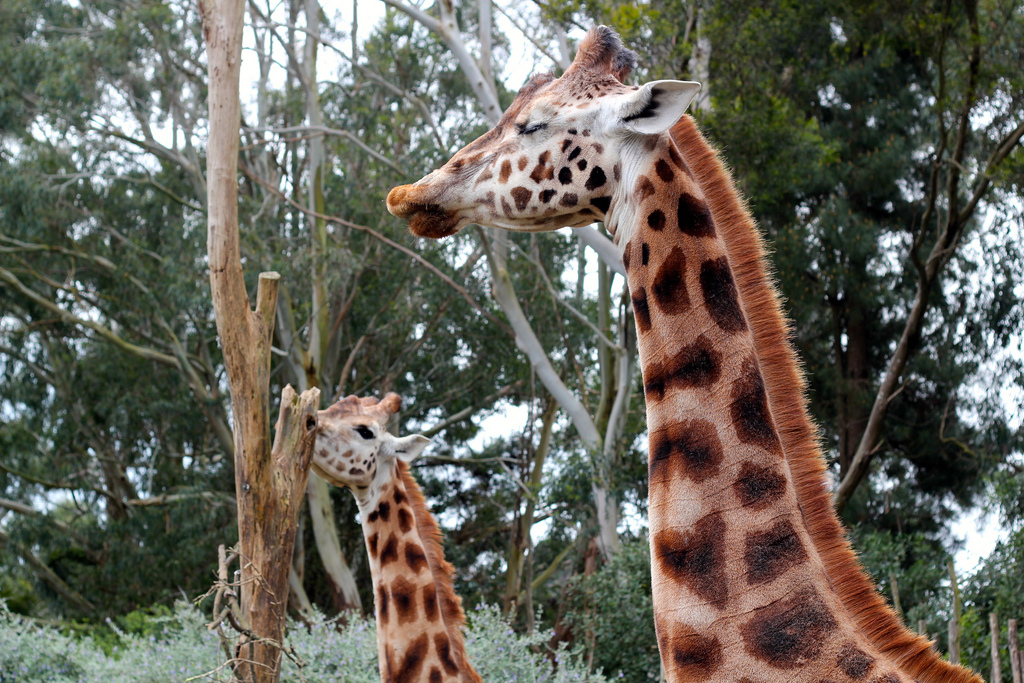giraffe: (403, 17, 952, 664), (260, 371, 502, 683)
